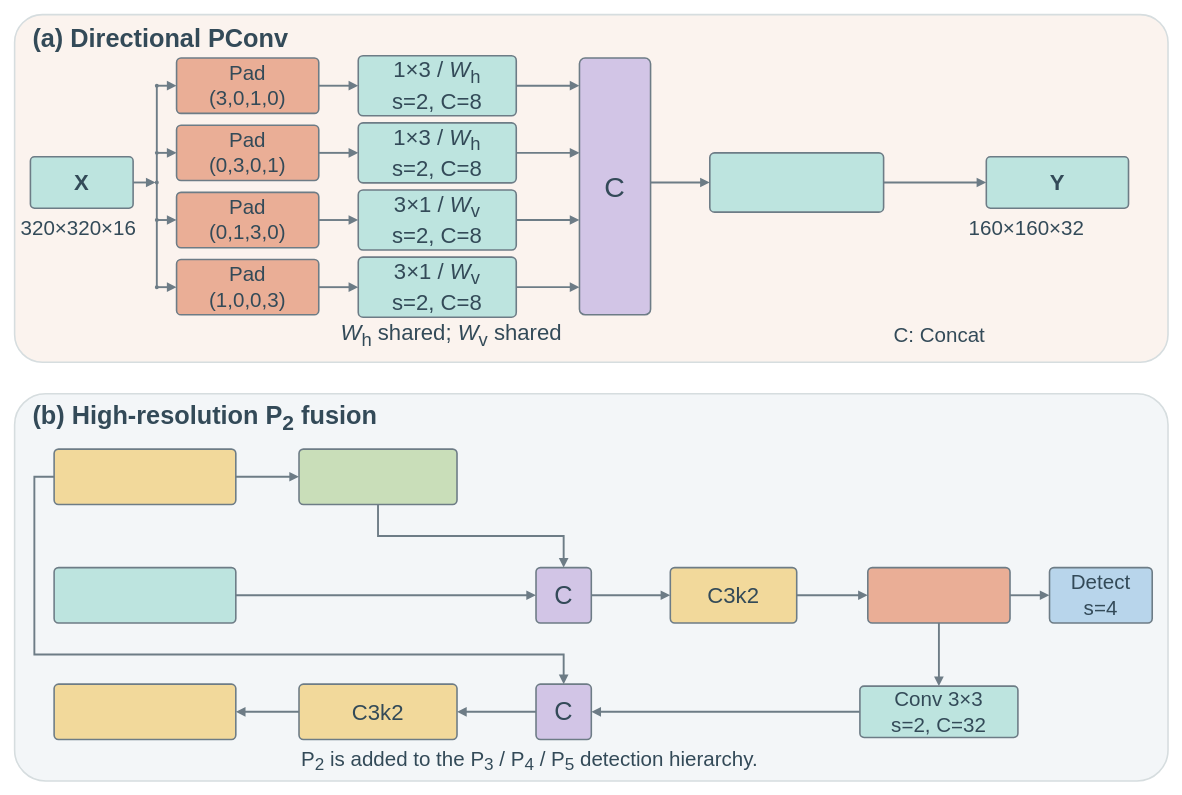
Image size: 1182x795. Some labels were removed from this diagram. Each missing label, with the box of its shape:
2×2 Conv s=1, C=32: (709, 152, 884, 213)
B 2 / layer 2 160×160×64: (53, 566, 236, 623)
N 2 : P 2 160×160×32: (867, 566, 1010, 623)
N 3 : P 3 80×80×64: (53, 683, 236, 740)
T 3 / layer 16 80×80×64: (53, 448, 236, 505)
Upsample ×2: (298, 448, 457, 505)
